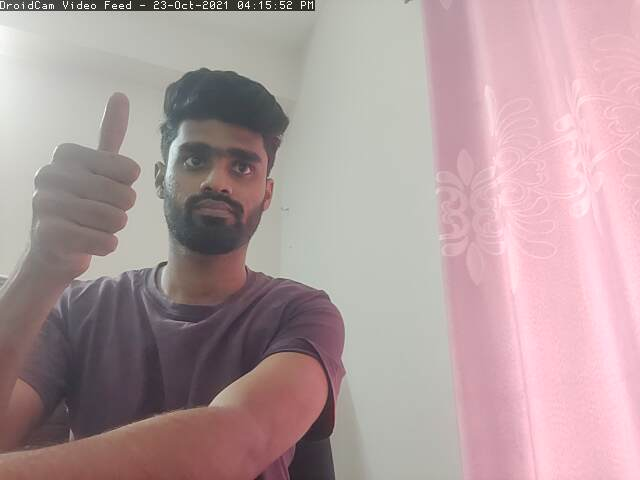ThumbsUp: (31, 91, 143, 287)
